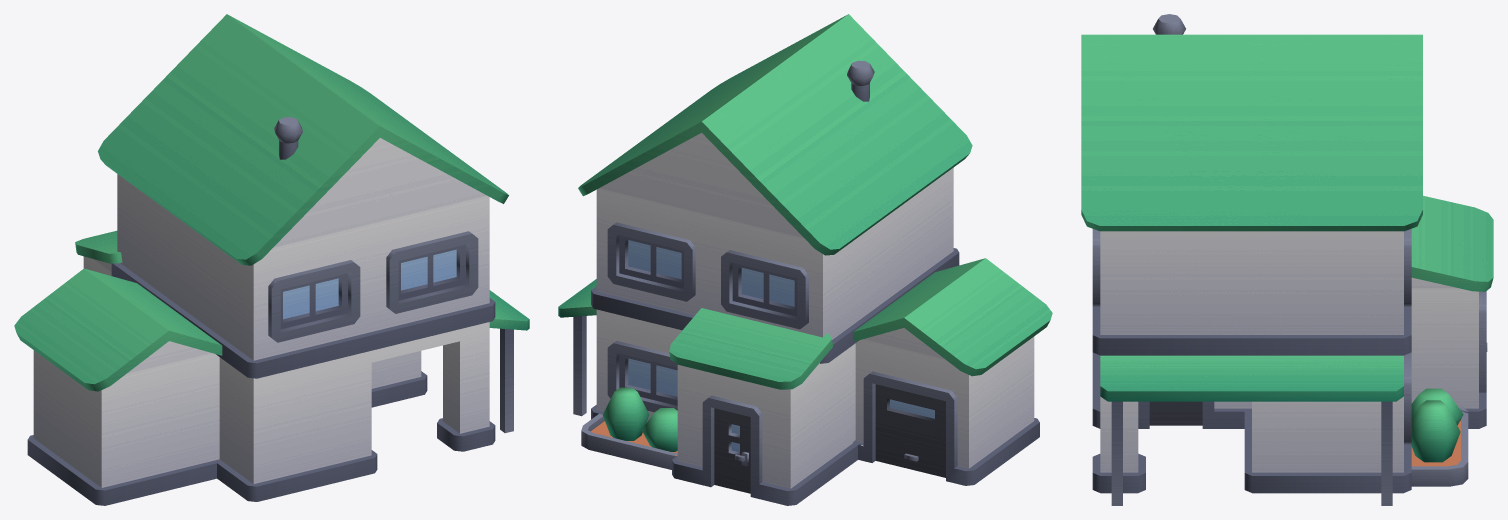
File: s_building-type-s.glb
3 renders of one model, left to right at view 1: azimuth 30°, elevation 25°; view 2: azimuth 150°, elevation 25°; view 3: azimuth 270°, elevation 25°, orthographic. The views are drawn at different scales.
Parts seen in each view (by area): view 1: building-type-s; view 2: building-type-s; view 3: building-type-s.
Boxes of the visible parts, bbox=[...] form: building-type-s: bbox=[14, 14, 529, 505]; building-type-s: bbox=[558, 14, 1052, 505]; building-type-s: bbox=[1081, 14, 1493, 505].
Size of the model in its own units: 1.41 by 1.14 by 1.09.
1 material, 1 textured.
